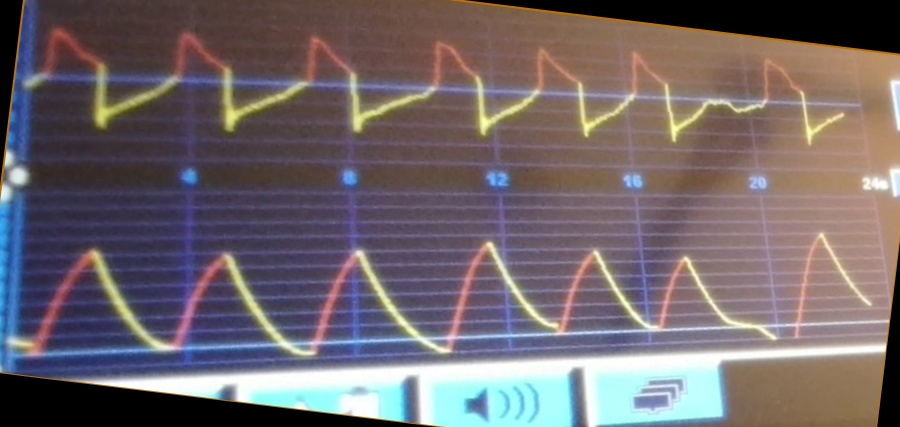Ineffective_effort Flow: (34, 21, 844, 150)
Ineffective_effort Volume: (18, 219, 874, 365)
